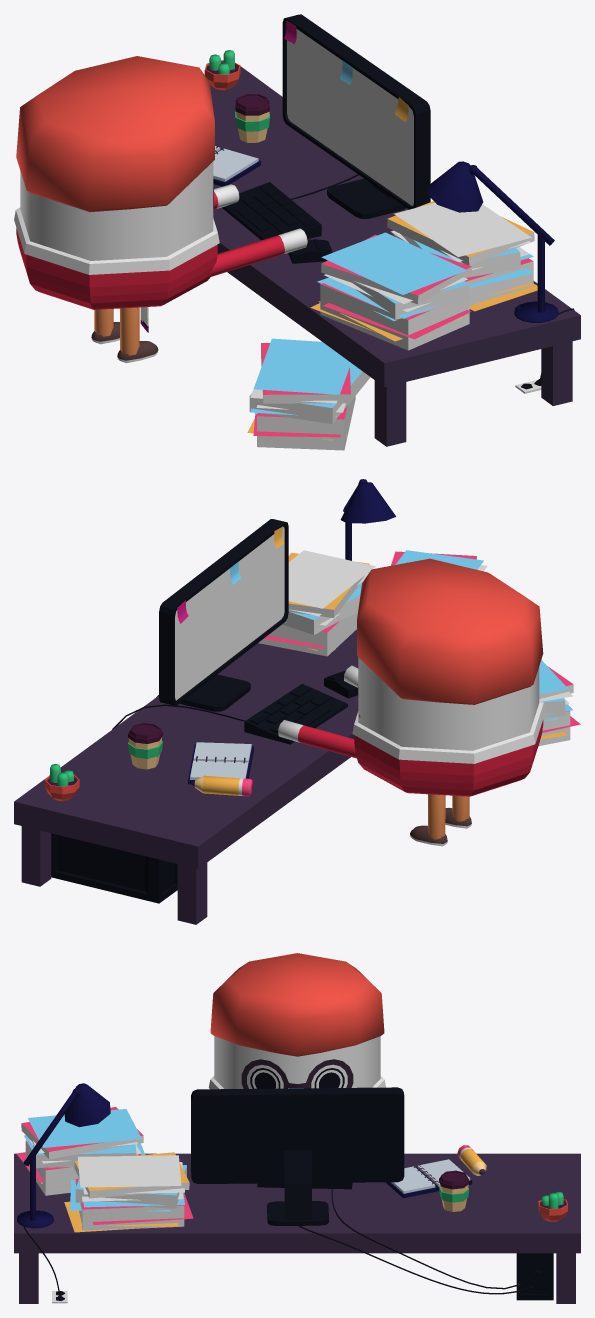
The model's file is DesignerRecruiter.fbx.
The picture shows the model from 3 angles, top to bottom: view 1: azimuth 30°, elevation 25°; view 2: azimuth 150°, elevation 25°; view 3: azimuth 270°, elevation 25°; orthographic projection. The views are drawn at different scales.
Parts seen in each view (by area): view 1: Designer; view 2: Designer; view 3: Designer.
Boxes of the visible parts, x1,y1,x2,y2 form: Designer: (14, 14, 580, 450); Designer: (14, 479, 580, 924); Designer: (14, 953, 580, 1303).
Size of the model in its own units: 405 by 255 by 600.
